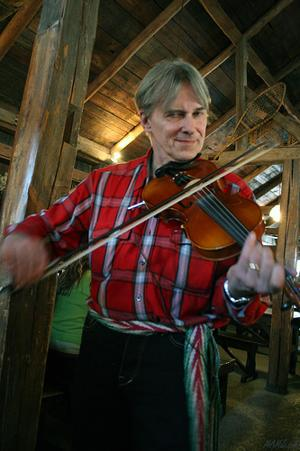person: (1, 59, 287, 451)
